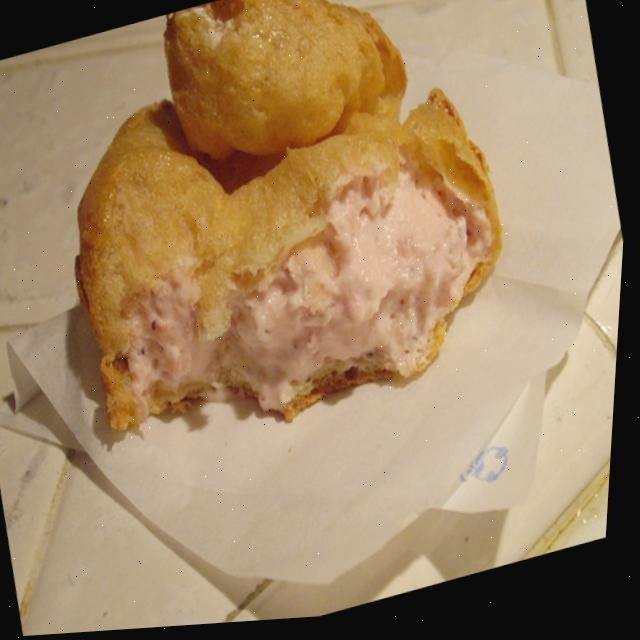炸货点心: (5, 0, 553, 485)
蛋糕甜品: (5, 0, 553, 485)
